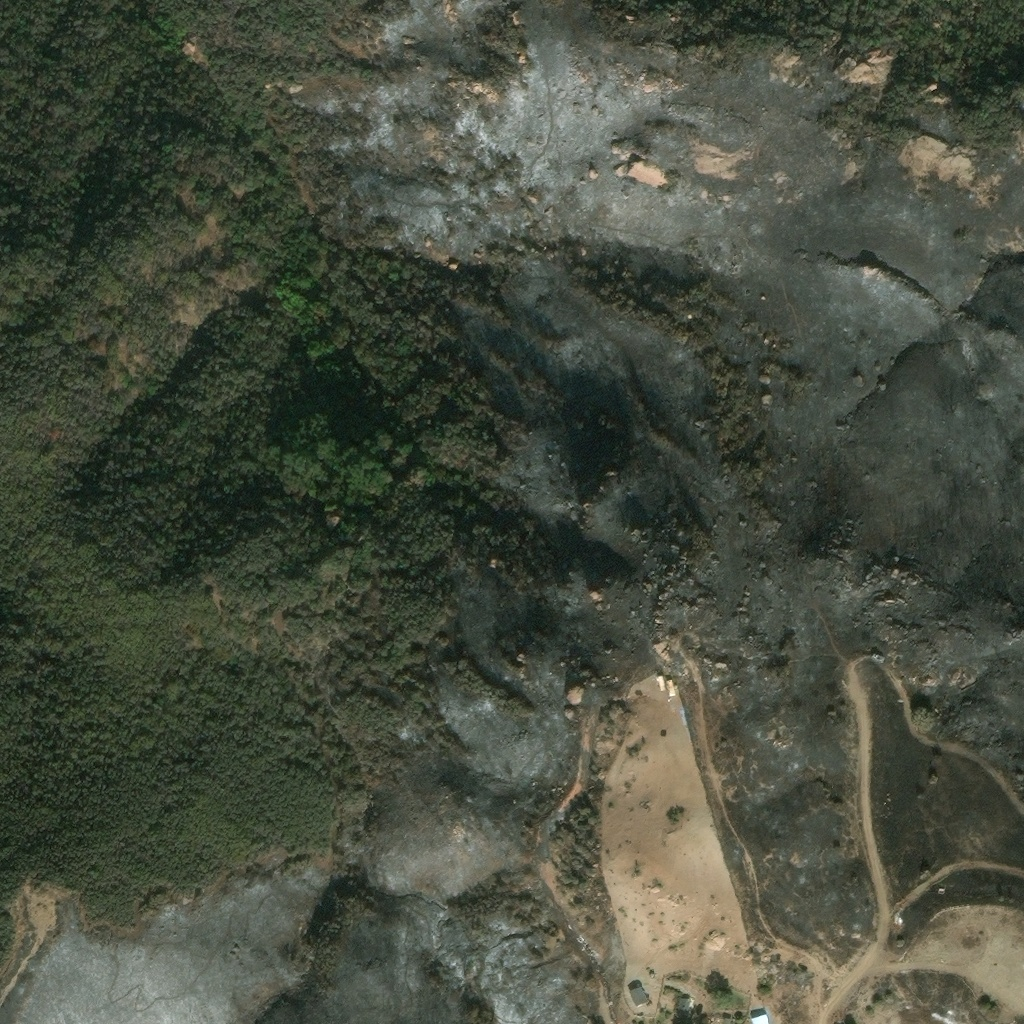0 no-damage: (676, 992, 698, 1020), (628, 981, 650, 1007), (649, 970, 657, 978)
3 destroyed: (656, 673, 679, 696), (578, 934, 597, 957), (724, 1007, 750, 1023), (605, 993, 617, 1020), (868, 646, 888, 662), (749, 1011, 771, 1023)
